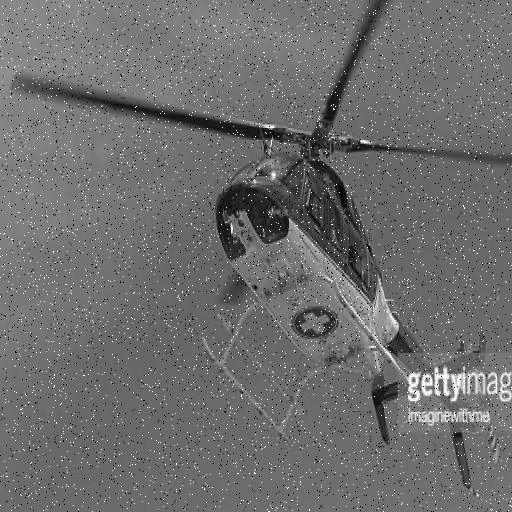helicopter: (13, 1, 512, 483)
